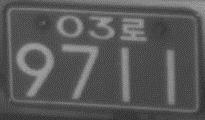0: (56, 14, 84, 38)
1: (111, 46, 142, 103), (156, 49, 186, 105)
3: (88, 14, 114, 40)
7: (60, 42, 99, 100)
9: (16, 41, 55, 96)
로: (120, 17, 147, 42)
